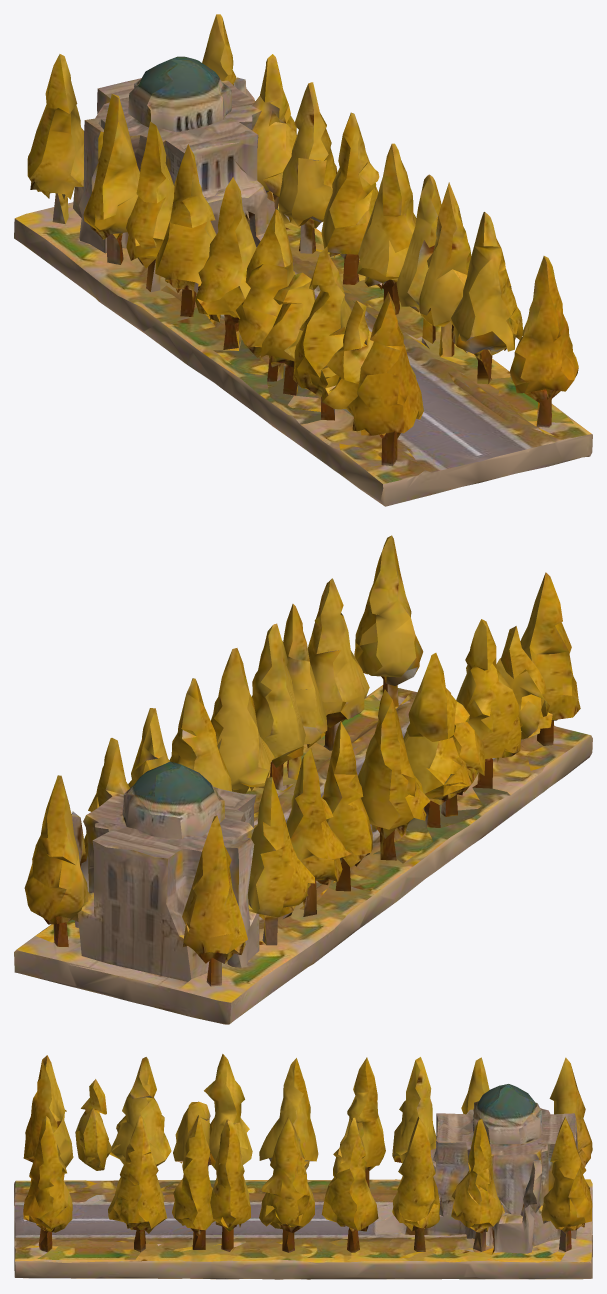
The model's file is jingu-gaien-ginkgo.glb.
3 views of the same model, one above another, from view 1: azimuth 30°, elevation 25°; view 2: azimuth 150°, elevation 25°; view 3: azimuth 270°, elevation 25° (orthographic). The views are drawn at different scales.
Visible parts, largest first — view 1: logan-textured.obj; view 2: logan-textured.obj; view 3: logan-textured.obj.
Boxes of the visible parts, x1,y1,x2,y2 form: logan-textured.obj: (14,14,592,506); logan-textured.obj: (14,535,592,1024); logan-textured.obj: (14,1054,592,1279).
Size of the model in its own units: 0.3562 by 0.2949 by 1.
Materials: 1 (1 with a texture image).
